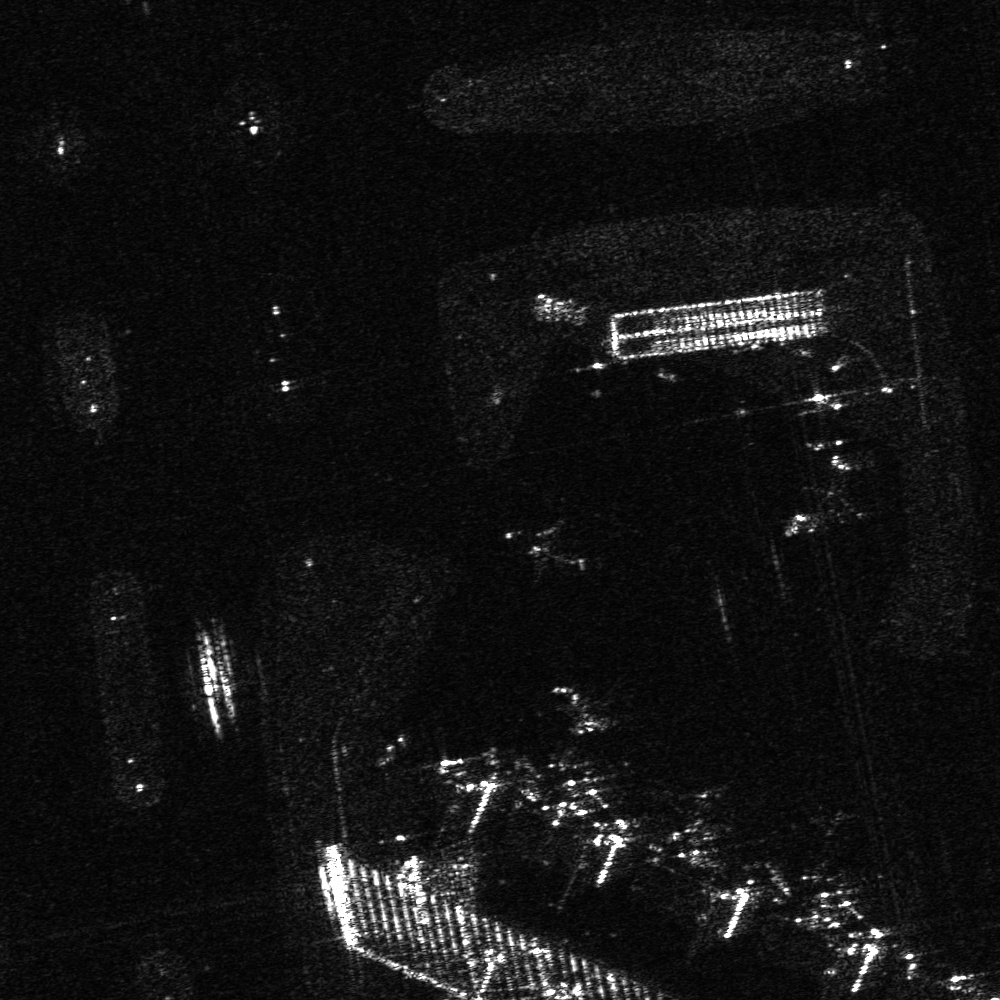Boeing787: (773, 464, 869, 542), (533, 767, 611, 812)
other: (498, 515, 591, 587)
